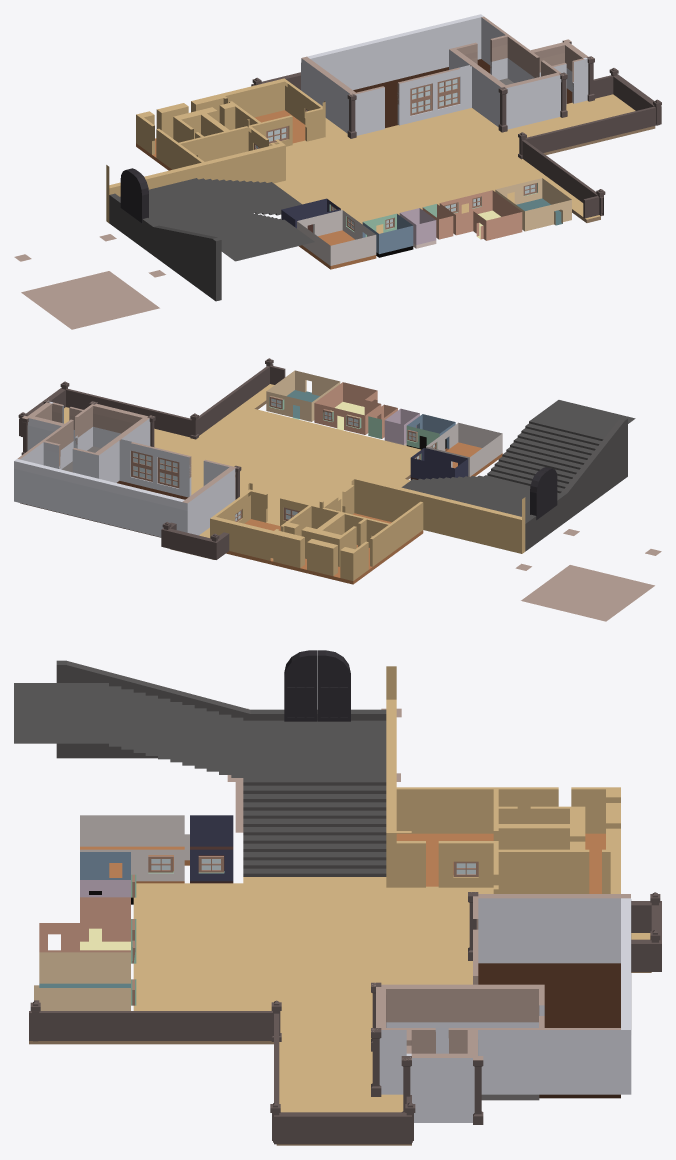
Rendered from City_TopDownFriendly.fbx.
3 renders of one model, top to bottom at view 1: azimuth 30°, elevation 25°; view 2: azimuth 150°, elevation 25°; view 3: azimuth 270°, elevation 25°, orthographic. The views are drawn at different scales.
Parts seen in each view (by area): view 1: City, CityFloor; view 2: City, CityFloor; view 3: City, CityFloor.
Boxes of the visible parts, left/top/right/bottom form: City: left=14, top=14, right=661, bottom=329; CityFloor: left=136, top=59, right=655, bottom=269; City: left=14, top=358, right=661, bottom=621; CityFloor: left=20, top=384, right=502, bottom=584; City: left=14, top=650, right=661, bottom=1144; CityFloor: left=29, top=833, right=651, bottom=1145.
Bounding box in the file's own units: 10632 × 1950 × 6347.
